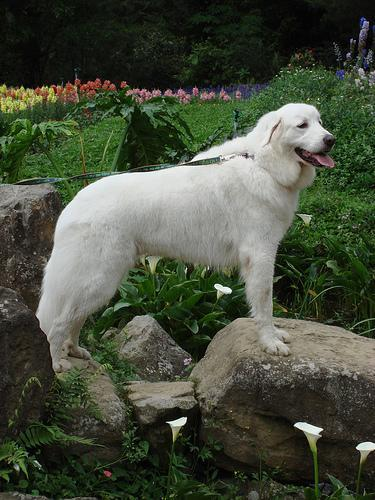Great_Pyrenees: (31, 100, 336, 375)
